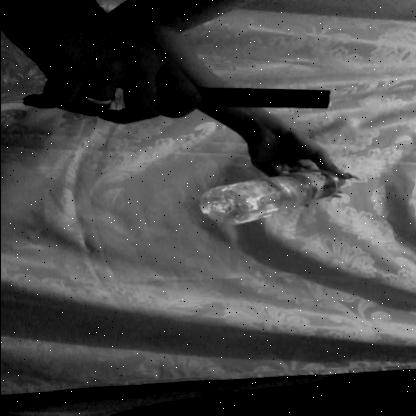Plastic Bottle: (168, 156, 374, 235)
